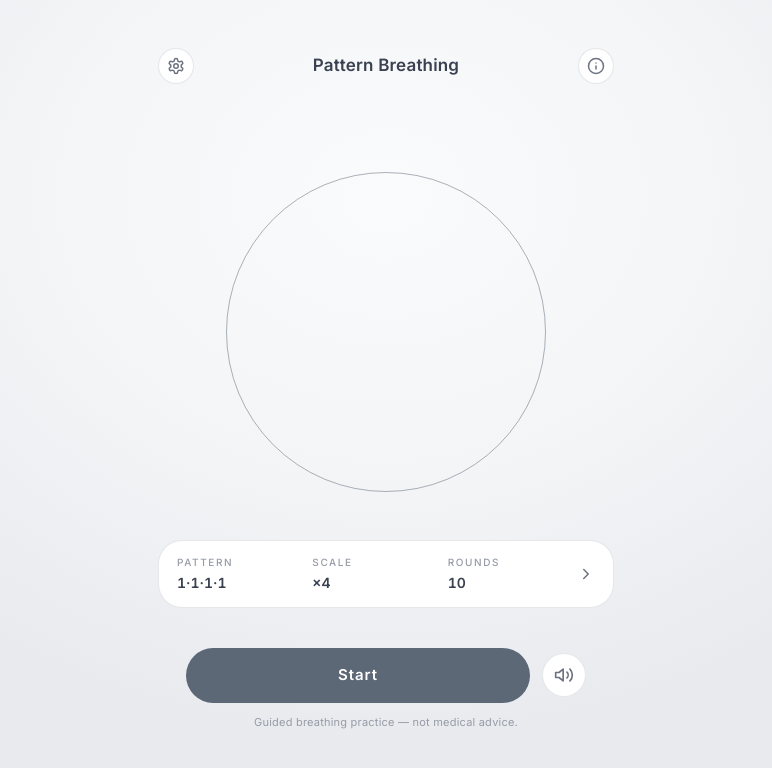
Test case: WR-09 surface routing replaces dialog overlay › clicking Learn navigates to the LearnPage and unmounts the practice surface (no dialog overlay)
Expected: the button "Start" is shown, top-left (186, 648), bottom-right (530, 702)
What coordinates should you click on to do the following:
click the button named "Learn"
I would click on:
 (596, 66)
Its box is top-left (578, 48), bottom-right (614, 84).
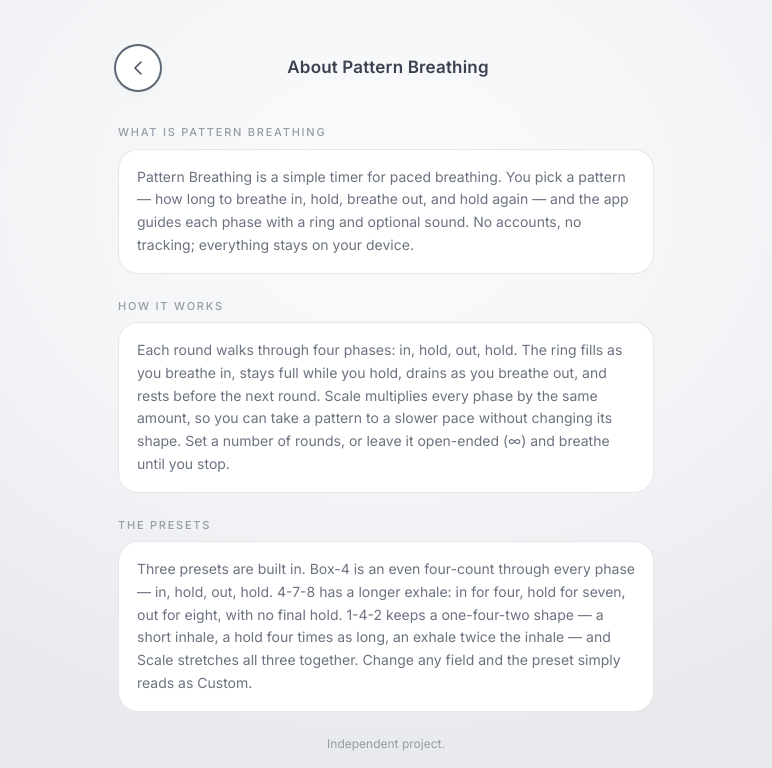
Result: the heading "About Pattern Breathing" is shown at top-left (287, 55), bottom-right (489, 81)
Result: the button "Start" is gone
